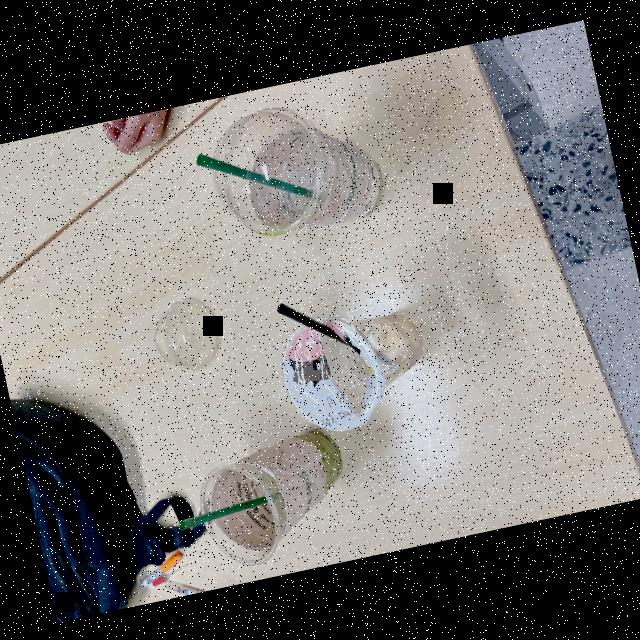plastic_cup: (189, 423, 359, 574), (272, 300, 436, 438)
plastic_cup_lid: (205, 100, 331, 242), (142, 288, 227, 376)
straw: (275, 301, 396, 369), (196, 151, 320, 201), (177, 490, 282, 531)
